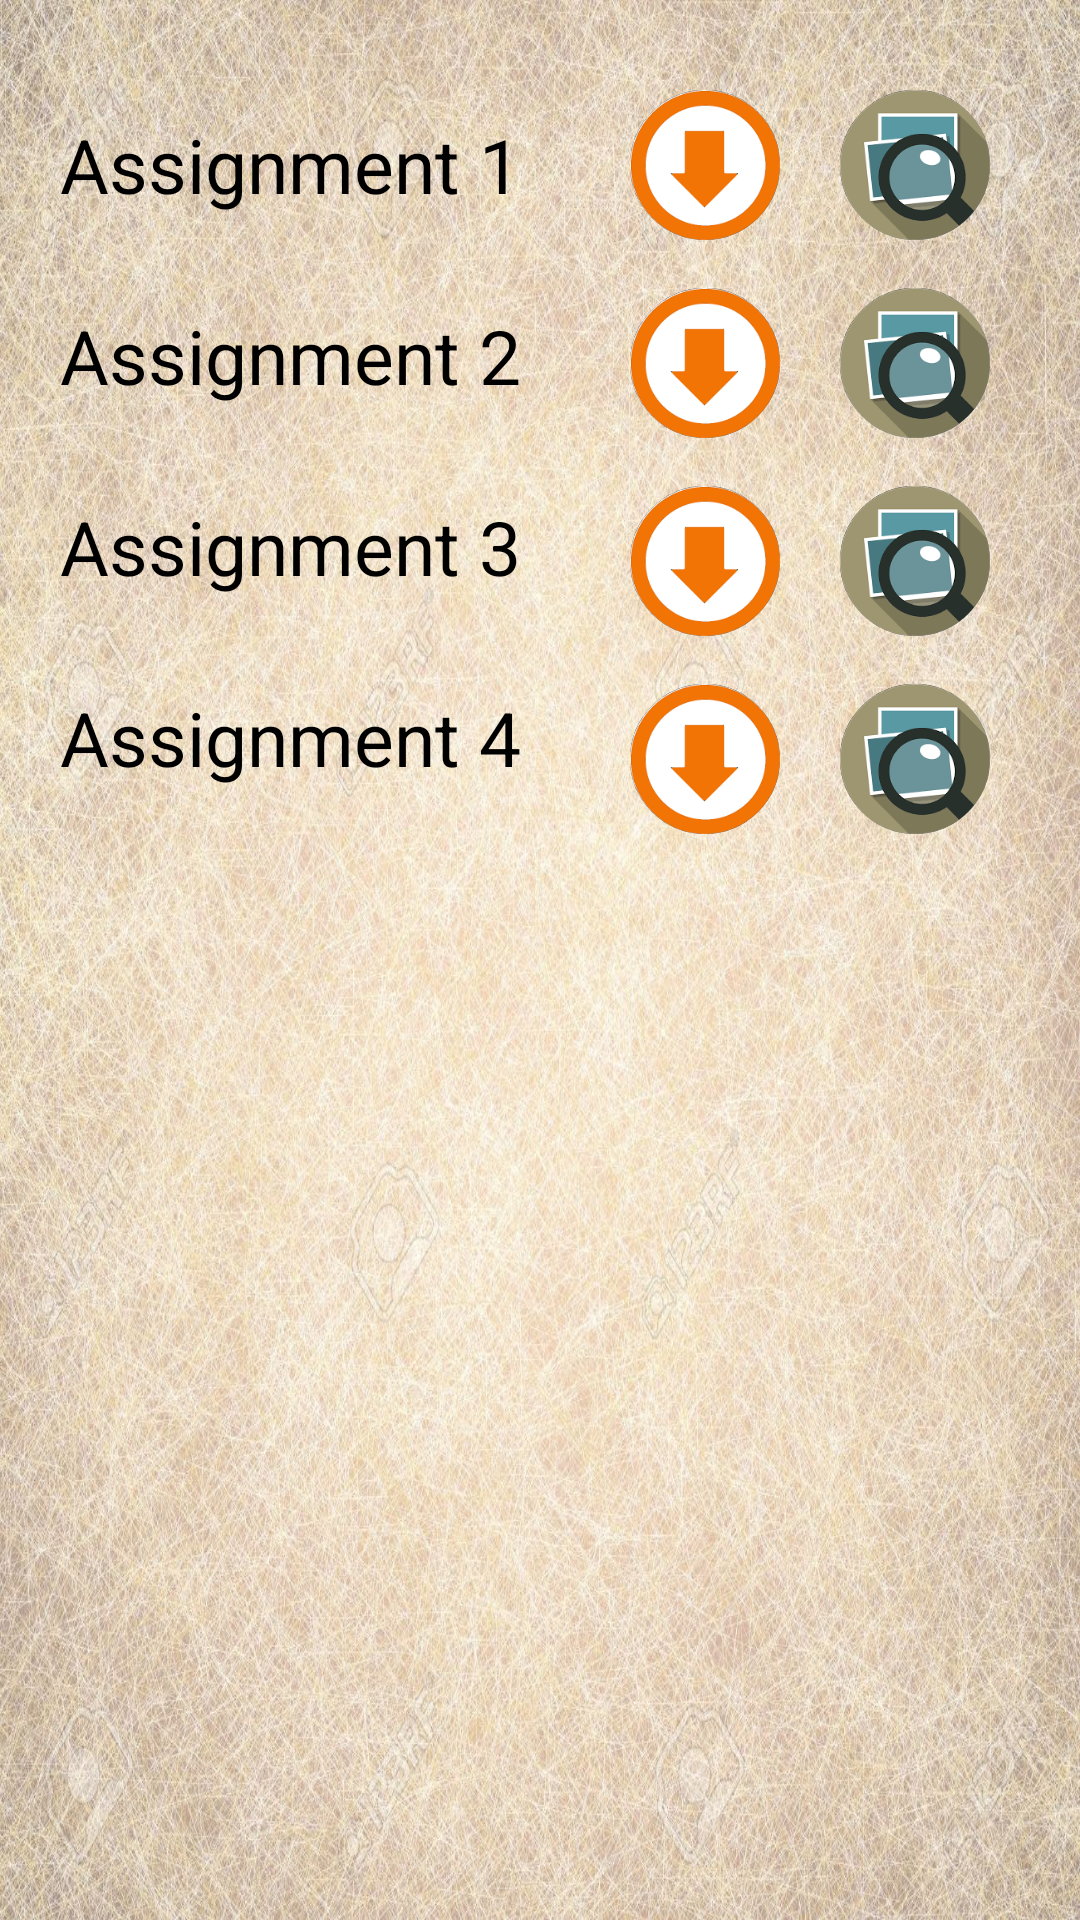

Locate icon controls on the screen. Image size 1080px×1920px, boxes as BBox(x1, y1, x2, y2).
download: BBox(630, 90, 780, 240), BBox(630, 288, 780, 438), BBox(630, 486, 780, 636), BBox(630, 684, 780, 834)
